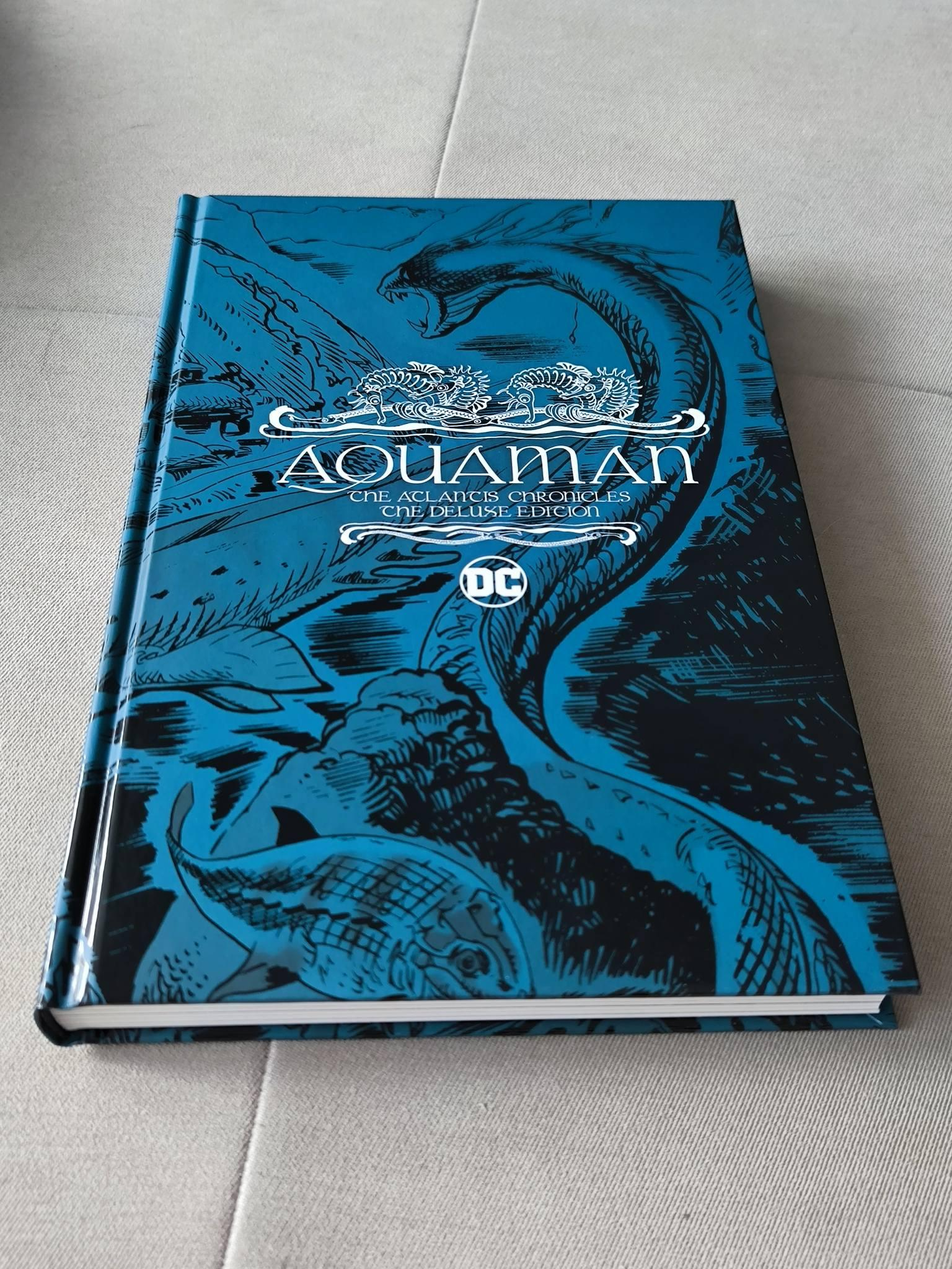comic: (31, 191, 916, 1039)
